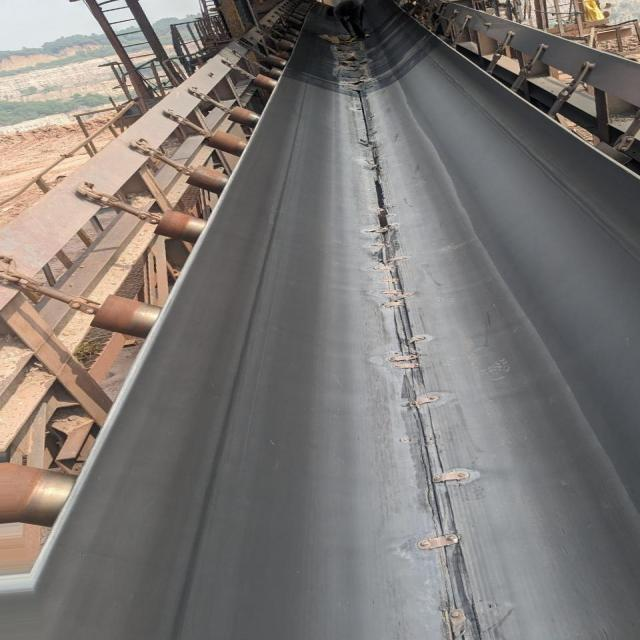Human: (327, 0, 381, 40)
Roller: (92, 1, 315, 342)
Tear: (356, 91, 405, 281)
patch work: (378, 295, 486, 640), (337, 36, 369, 87)
